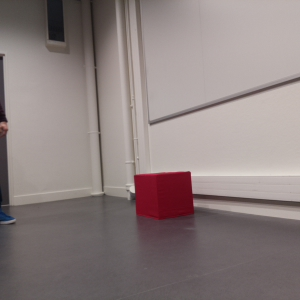medium: (132, 171, 197, 220)
